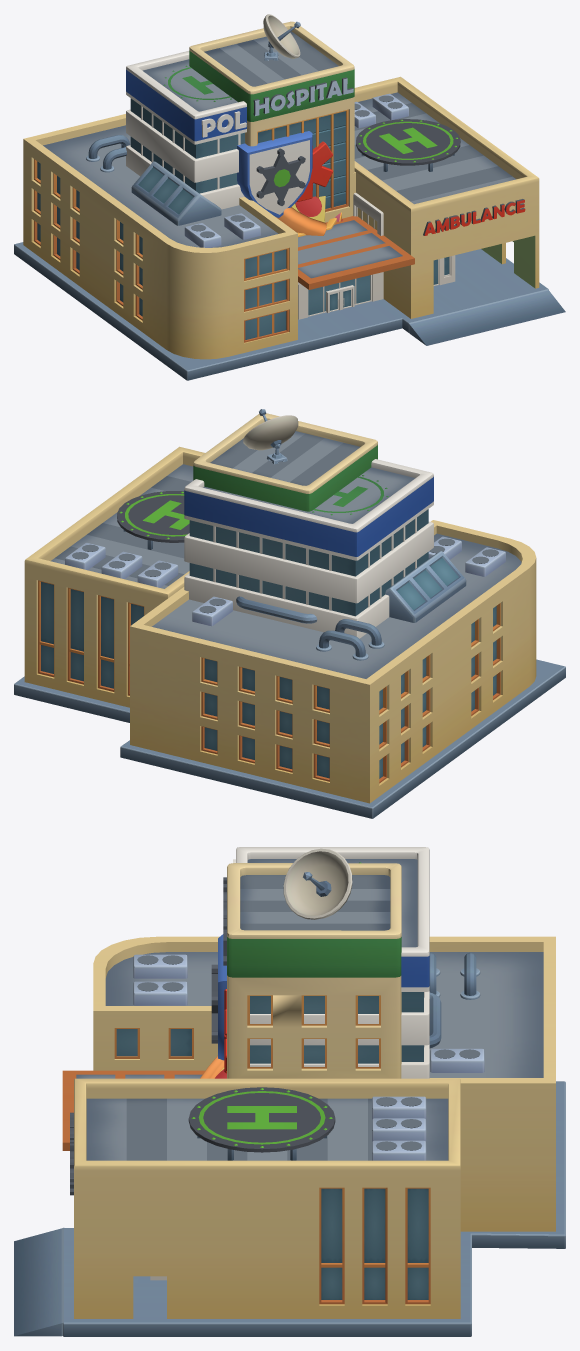
Rendered from AllinOne-02.fbx.
3 renders of one model, top to bottom at view 1: azimuth 30°, elevation 25°; view 2: azimuth 150°, elevation 25°; view 3: azimuth 270°, elevation 25°, orthographic. The views are drawn at different scales.
Visible parts, largest first — view 1: Hospital_01, police_department_001, PizzaShop_001; view 2: Hospital_01, police_department_001; view 3: Hospital_01, police_department_001.
Boxes of the visible parts, left/top/right/bottom form: Hospital_01: left=14, top=21, right=565, bottom=380; police_department_001: left=126, top=14, right=455, bottom=319; PizzaShop_001: left=276, top=196, right=326, bottom=235; Hospital_01: left=14, top=413, right=565, bottom=818; police_department_001: left=184, top=409, right=433, bottom=638; Hospital_01: left=14, top=863, right=565, bottom=1336; police_department_001: left=138, top=847, right=429, bottom=1283.
Bounding box in the file's own units: 3409 × 3284 × 2360.
